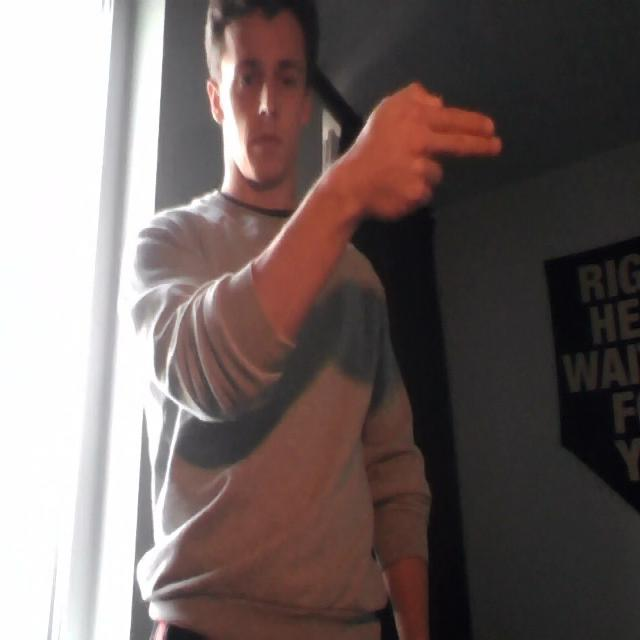right: (337, 72, 511, 238)
